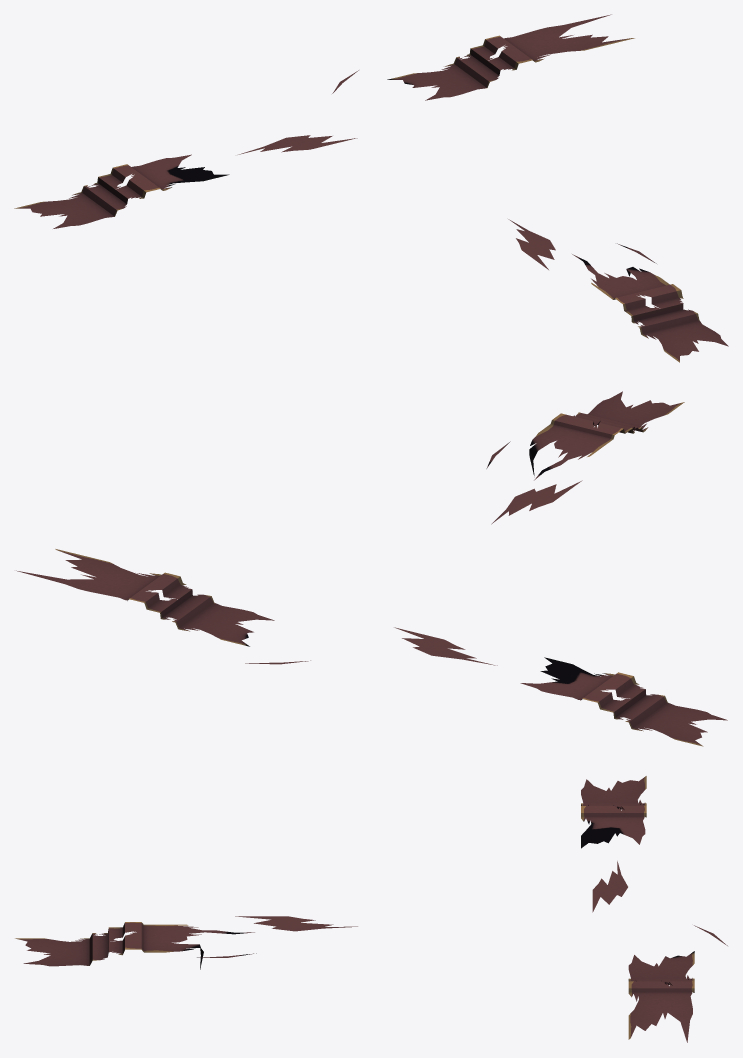
The model's file is Capet_01.FBX.
The picture shows the model from 3 angles, top to bottom: view 1: azimuth 30°, elevation 25°; view 2: azimuth 150°, elevation 25°; view 3: azimuth 270°, elevation 25°; orthographic projection. The views are drawn at different scales.
Visible parts, largest first — view 1: Capet_01; view 2: Capet_01; view 3: Capet_01.
Boxes of the visible parts, x1,y1,x2,y2 form: Capet_01: (14, 14, 728, 362); Capet_01: (16, 391, 727, 746); Capet_01: (15, 776, 727, 1042).
Bounding box in the file's own units: 25.62 × 1.69 × 26.21.
